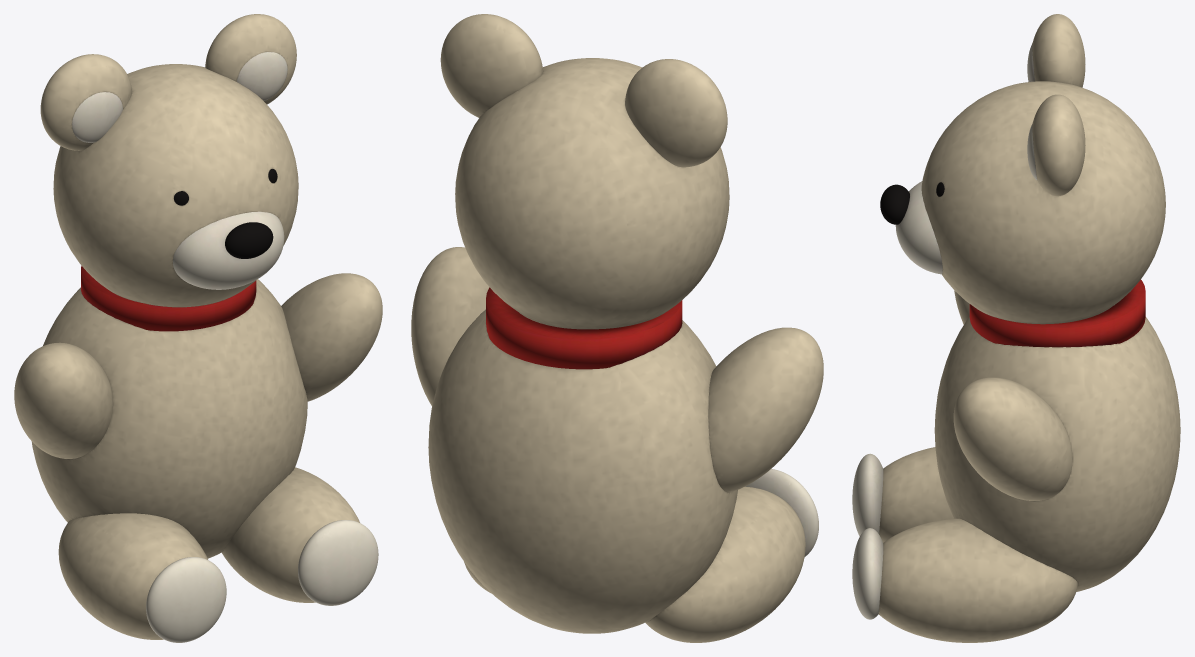
The model's file is cream-red-bow.glb.
3 views of the same model, side by side, from view 1: azimuth 30°, elevation 25°; view 2: azimuth 150°, elevation 25°; view 3: azimuth 270°, elevation 25° (orthographic). The views are drawn at different scales.
Visible parts, largest first — view 1: fur_primary, fur_pad, ribbon, eye_black; view 2: fur_primary, ribbon, fur_pad; view 3: fur_primary, fur_pad, ribbon, eye_black.
Part boxes in pixels (x1,y1,x2,y2): fur_primary: [14, 14, 382, 639]; fur_pad: [72, 52, 378, 642]; ribbon: [81, 265, 256, 331]; eye_black: [174, 169, 277, 258]; fur_primary: [411, 14, 823, 642]; ribbon: [486, 287, 682, 369]; fur_pad: [745, 469, 818, 557]; fur_primary: [878, 14, 1180, 642]; fur_pad: [852, 44, 1037, 619]; ribbon: [969, 280, 1145, 347]; eye_black: [880, 182, 944, 224].
Size of the model in its own units: 0.2789 by 0.4073 by 0.224.
4 materials, 3 textured.
